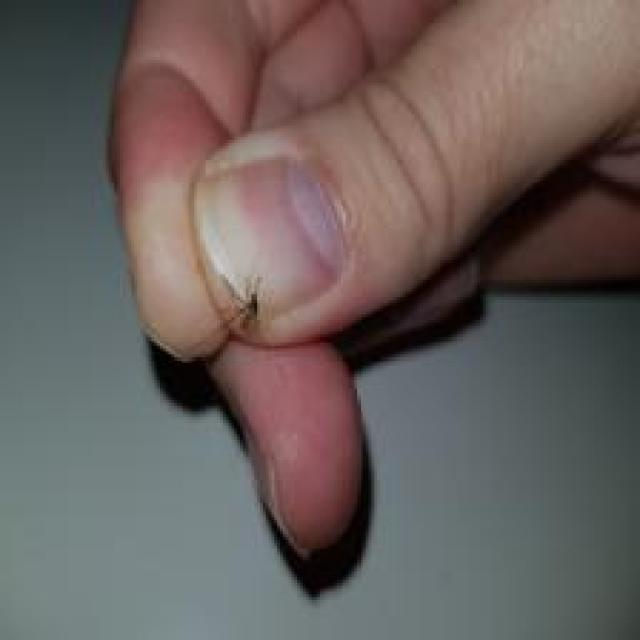Culex: (224, 272, 264, 332)
